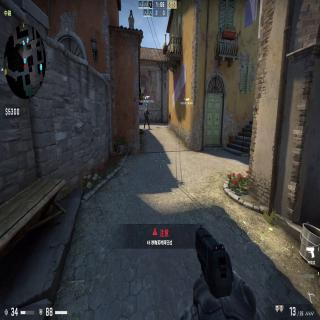CT-Body: (144, 107, 150, 129)
